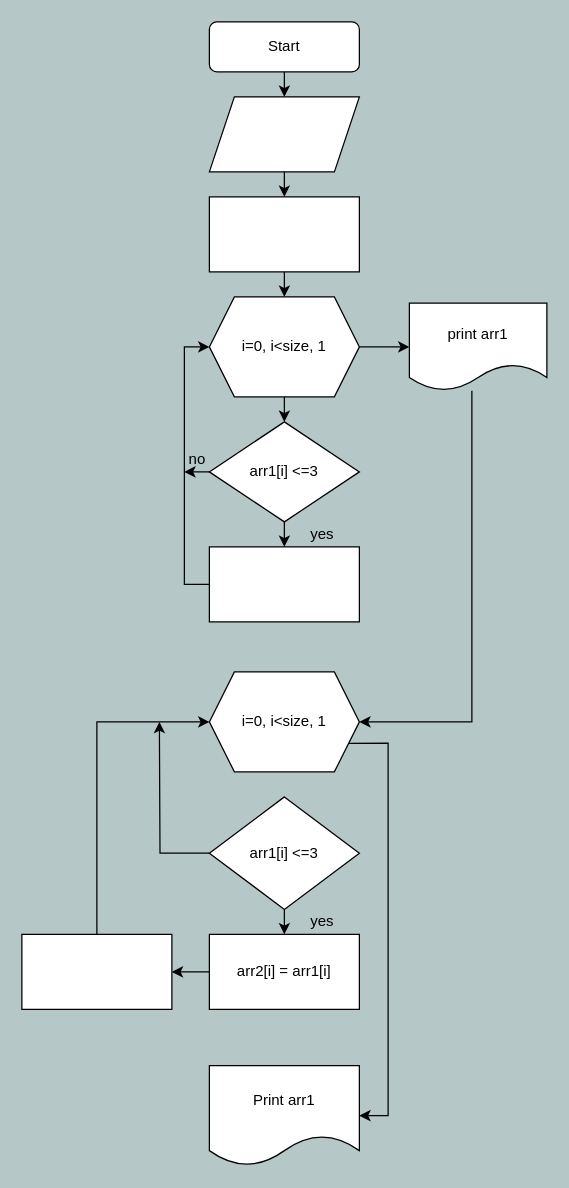
Some shapes in this 569 by 1188 pixel diagram are drawn without their labels. The centre of each missing label's shape, as x and y in pixels:
arr1 arr2 size: [283,134]
count++: [283,584]
count=0 maxSymbols=3: [283,234]
i++: [96,971]
